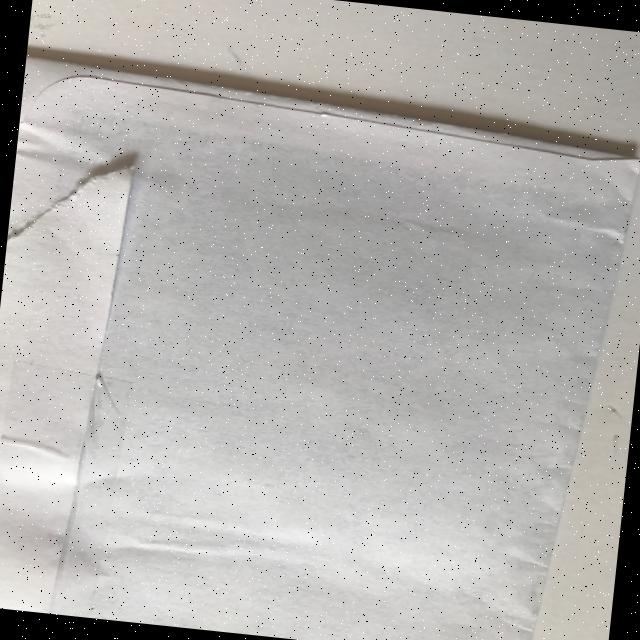paper: (0, 58, 640, 640)
